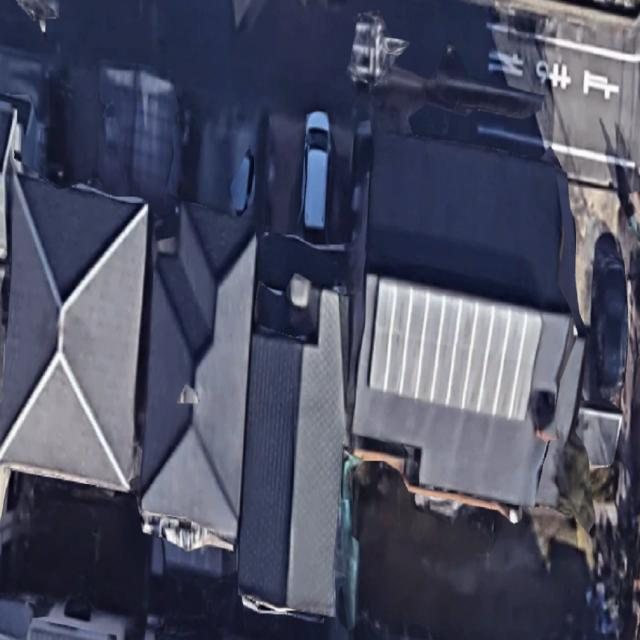Batiment: (352, 135, 586, 505), (0, 174, 148, 490), (141, 203, 256, 548)
